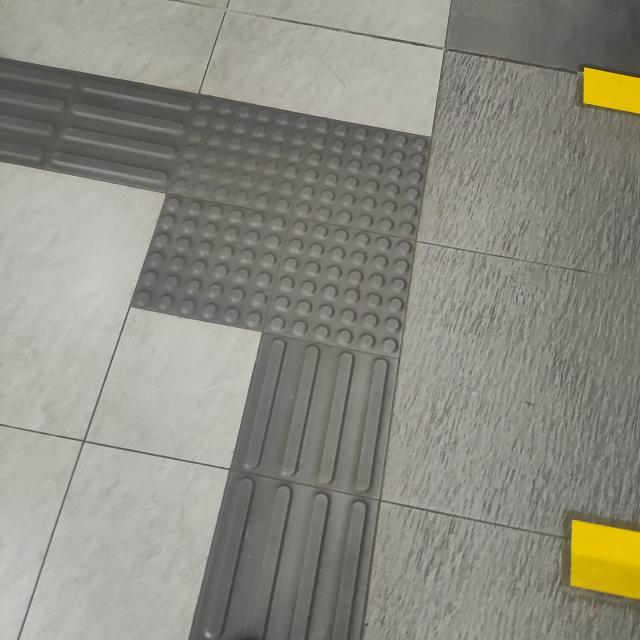kiri: (0, 17, 438, 421)
